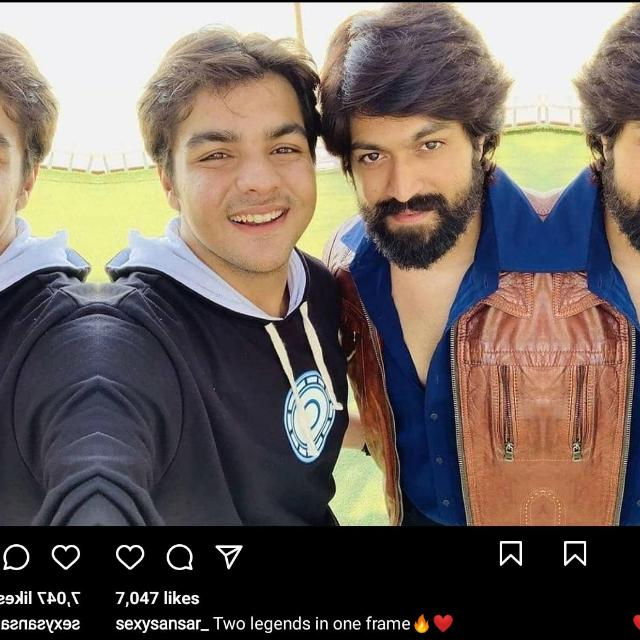person: (107, 19, 345, 599), (323, 6, 542, 622), (542, 6, 640, 622), (0, 19, 87, 599)
